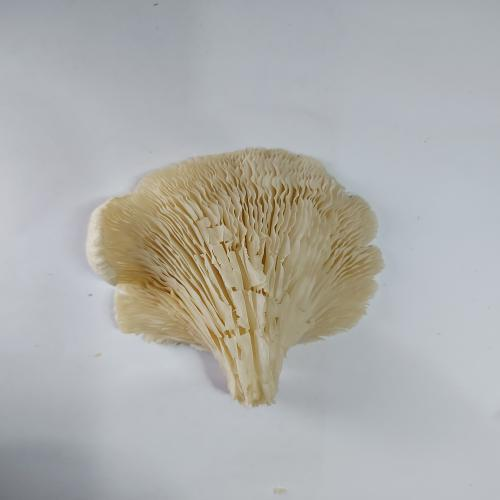Oyster Mushroom: (85, 146, 385, 408)
